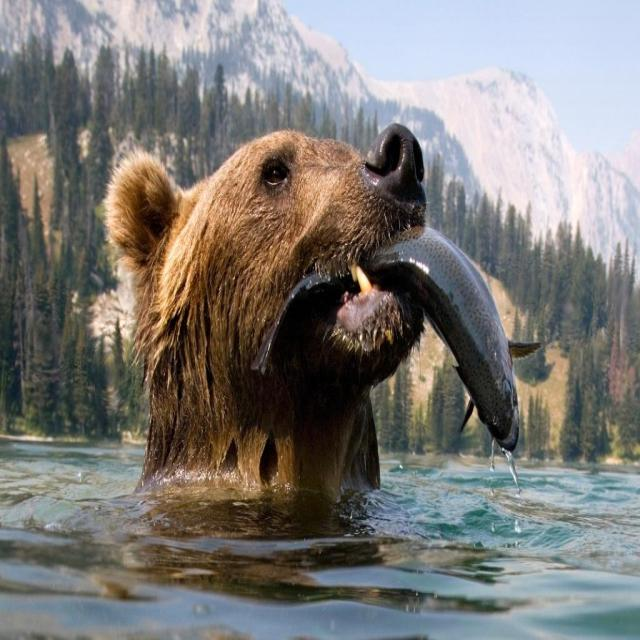Bear: (102, 126, 434, 502)
